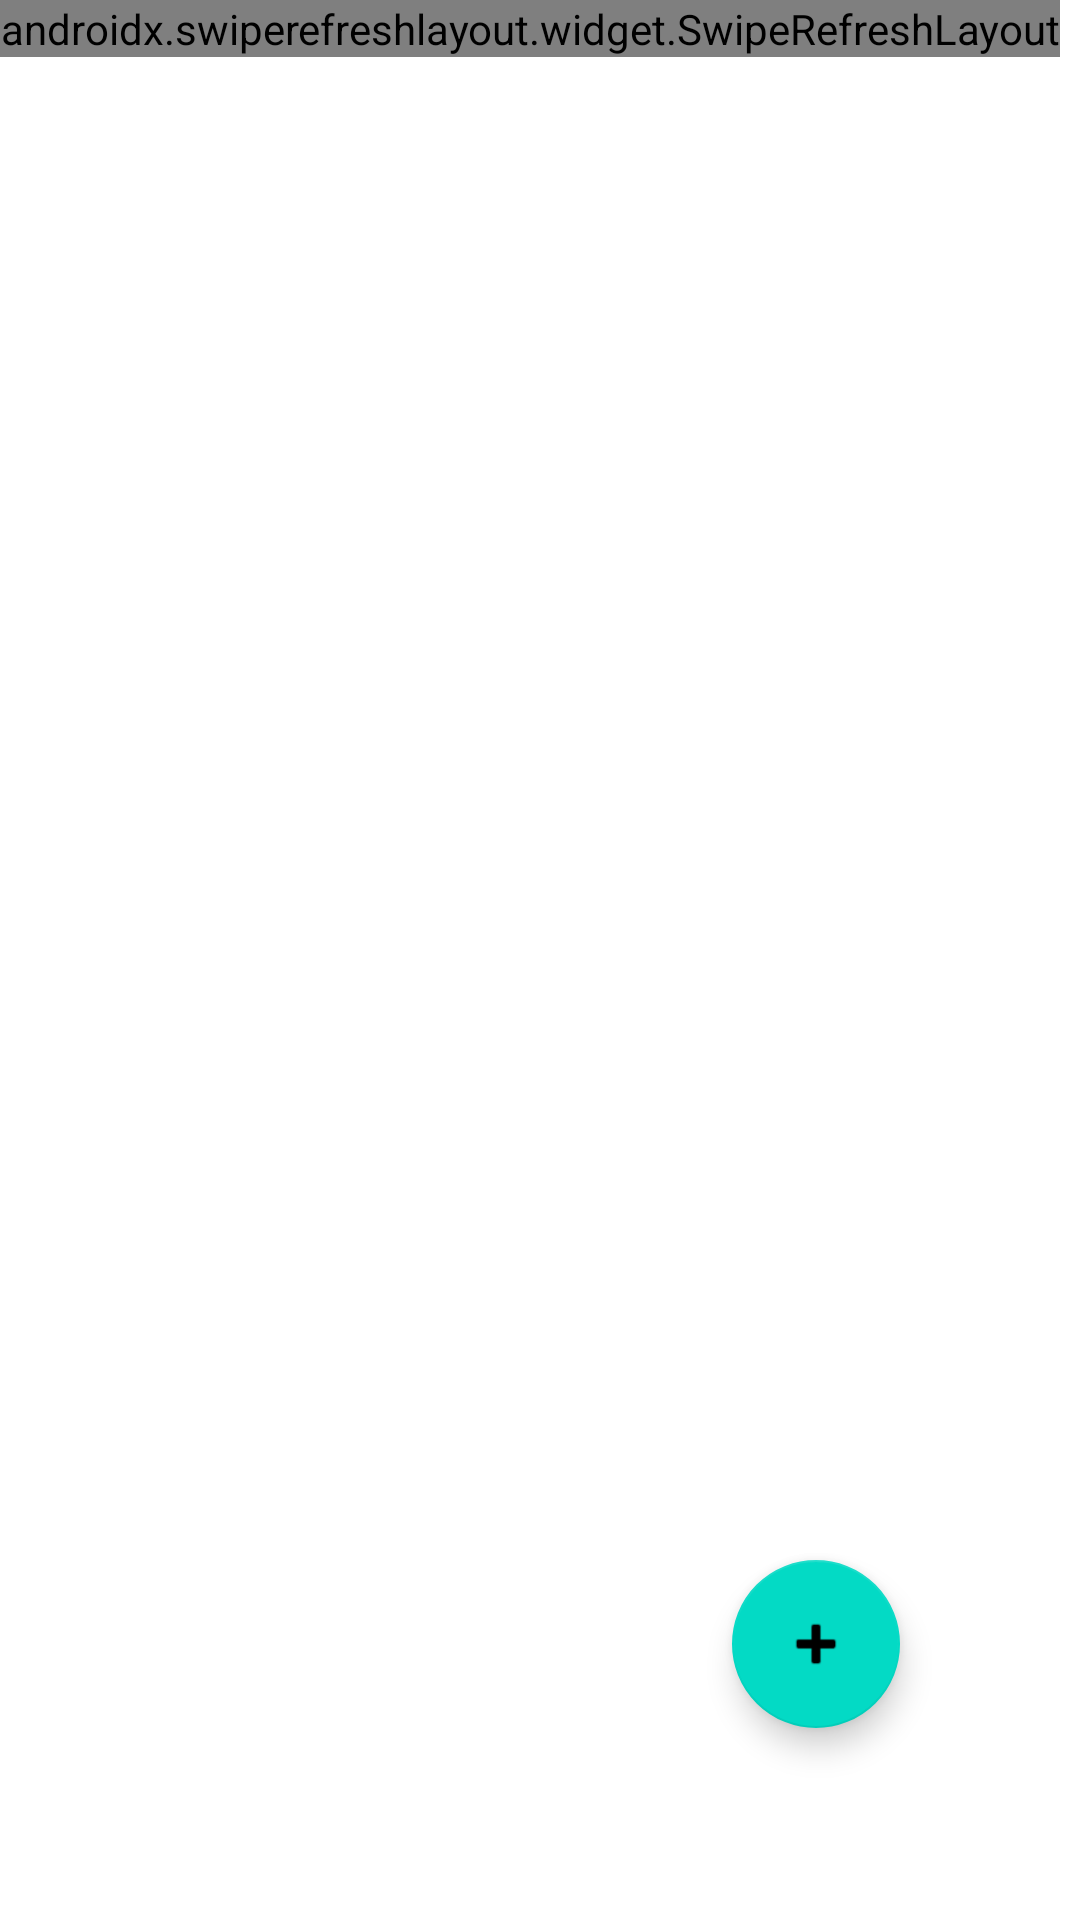

Locate icon controls on the screen. Image size 1080 x 1920, boxes as (x1, y1, x2, y2).
add: (732, 1560, 900, 1728)
